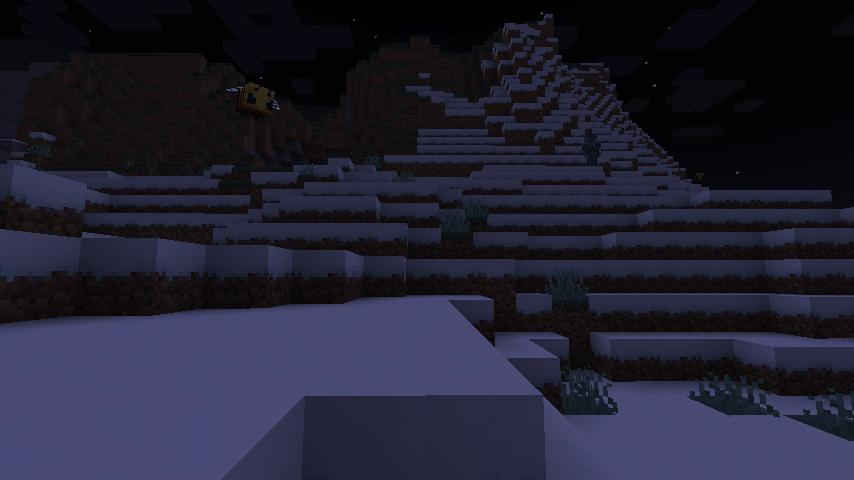bee: (222, 80, 282, 121)
